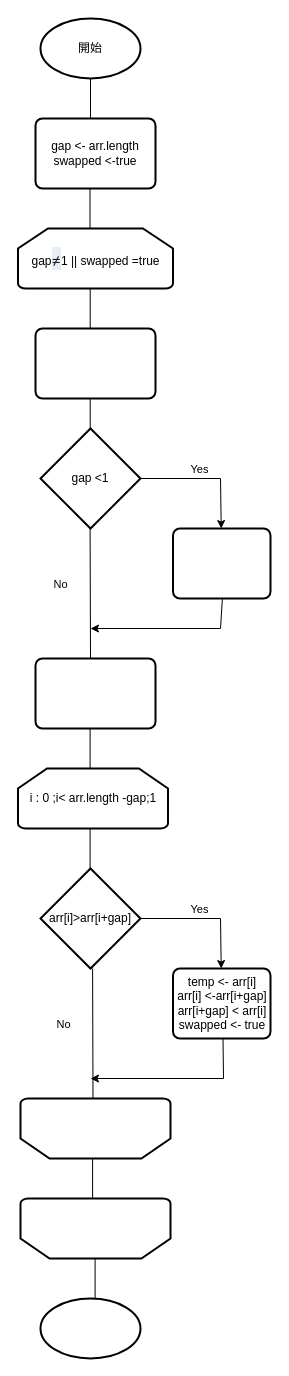
The diagram is 289 pixels wide and 1376 high, and some of its shapes have lost their labels. Each missing label, with the box of its shape:
gap <- (gap *10) /13: (34, 327, 156, 399)
gap <-1: (172, 527, 271, 599)
swapped <- false: (34, 657, 156, 729)
終了: (39, 1297, 141, 1359)
